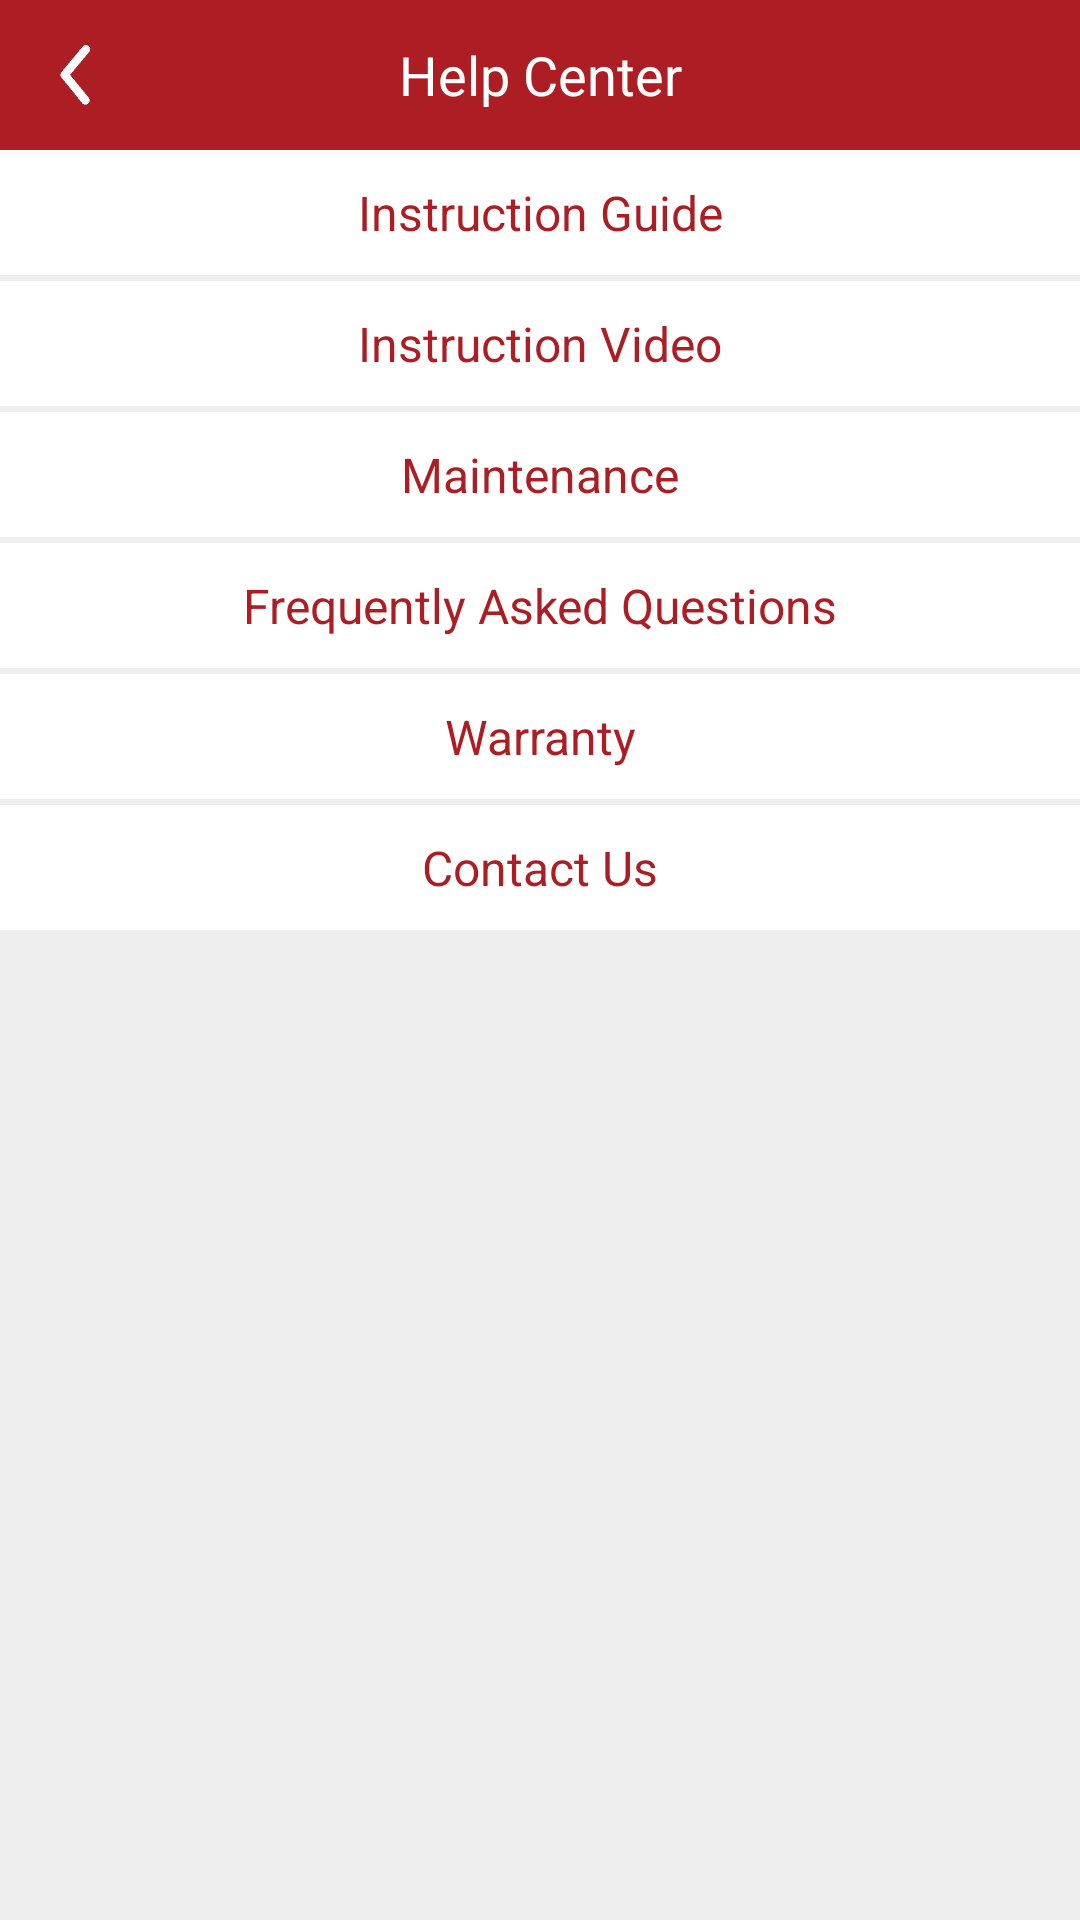

Where icons sit on this 1080w x 1920h app screen, as bbox=[x1, y1, x2, y2]:
back: bbox=[60, 45, 90, 105]
